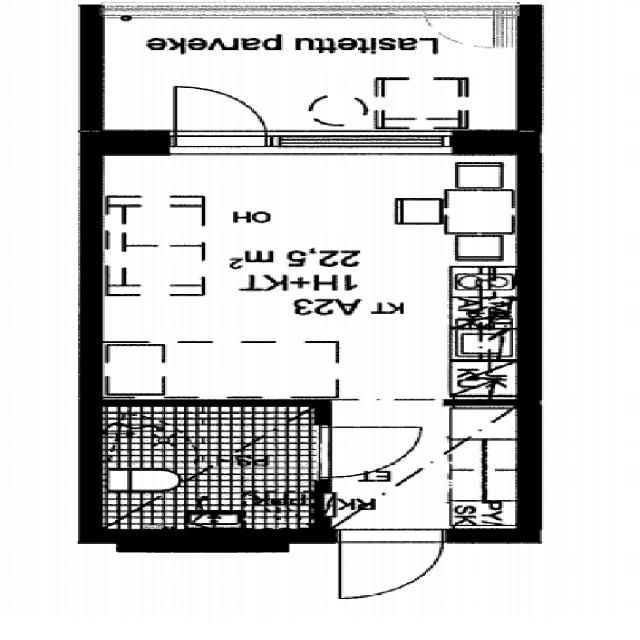door: (340, 528, 443, 598), (174, 80, 265, 154), (316, 428, 422, 477)
